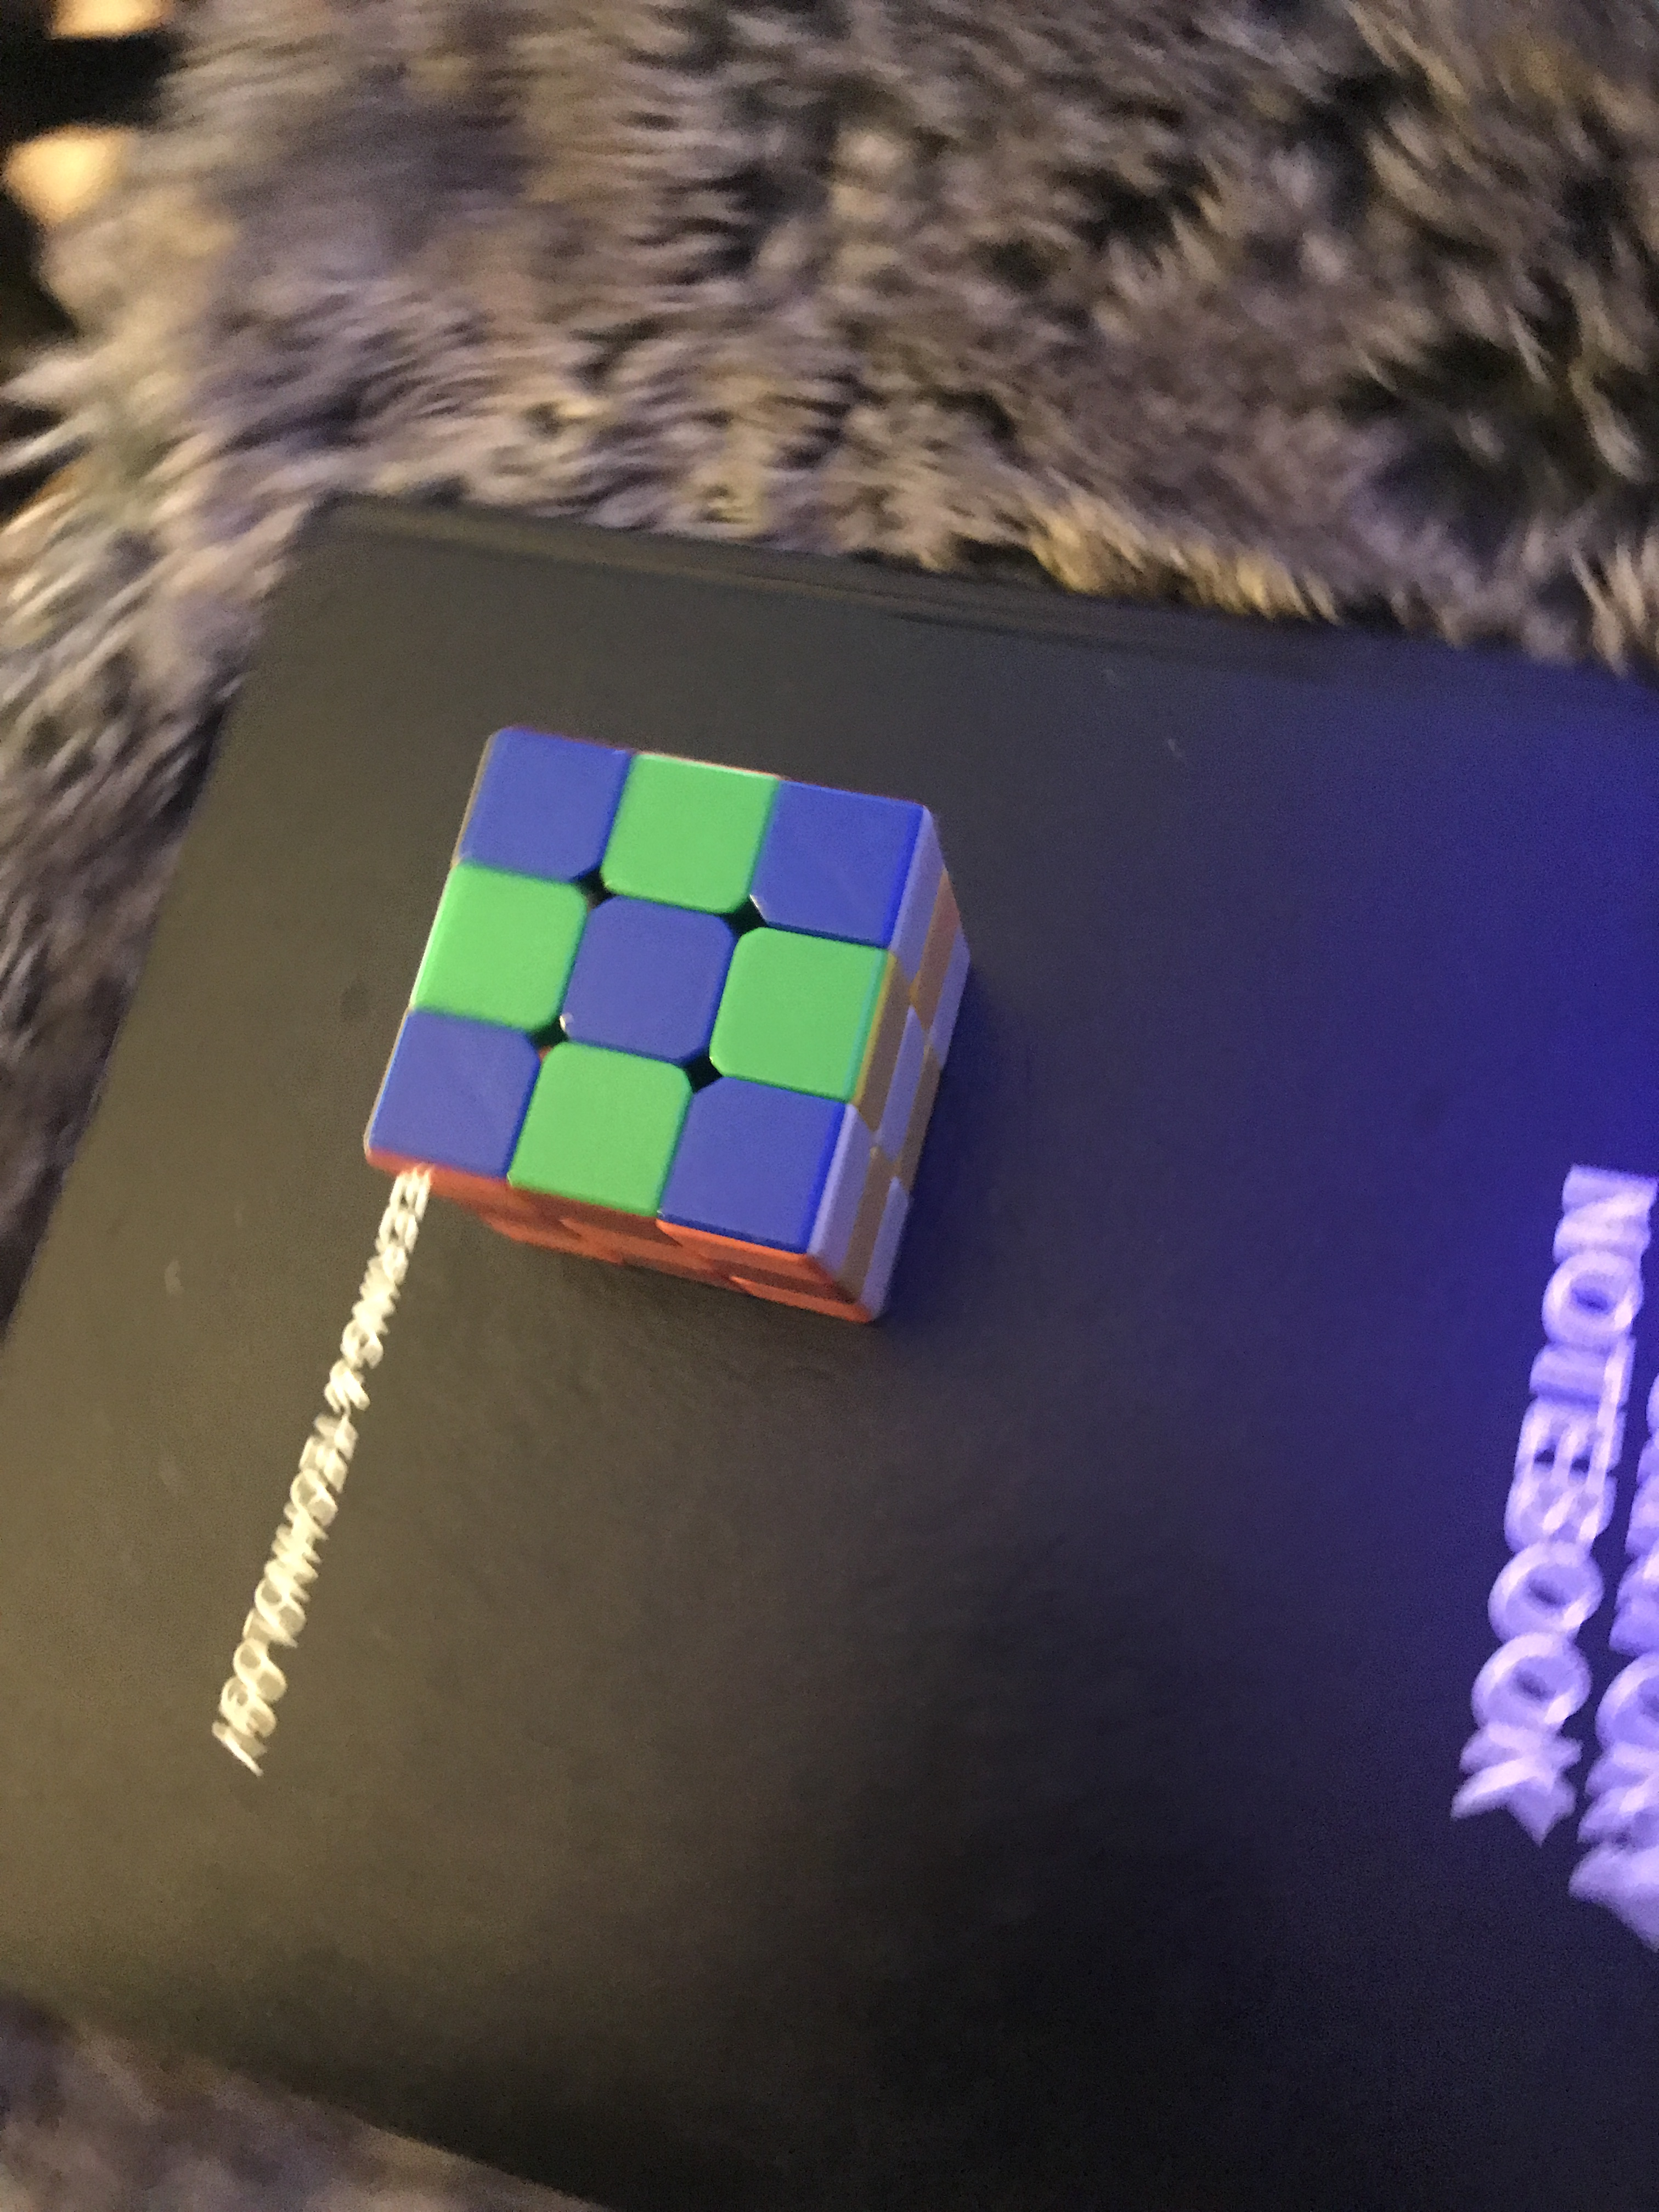rubiks: (349, 723, 974, 1334)
